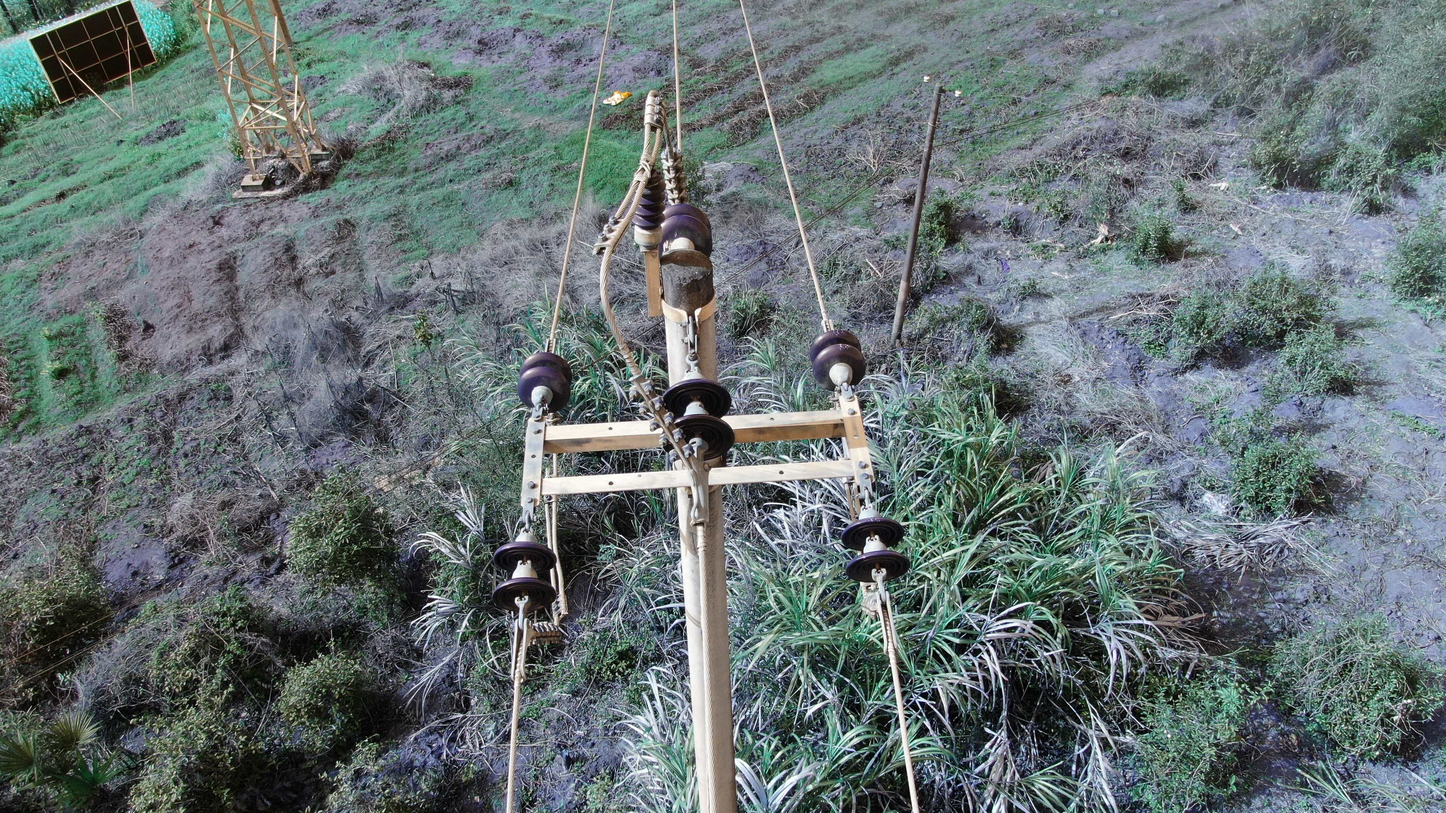severe_soiling_no_discharge_whole: (513, 348, 576, 420)
